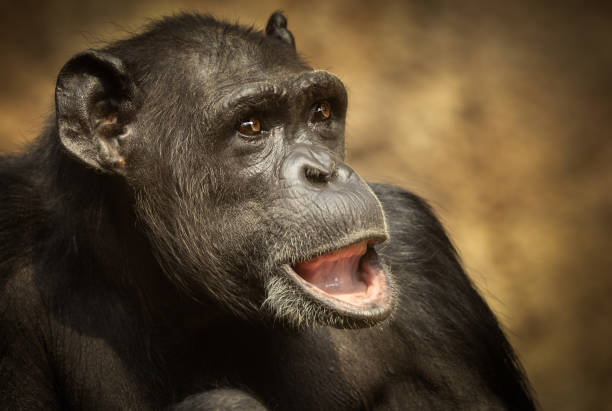chimpanzee: (38, 4, 426, 360)
